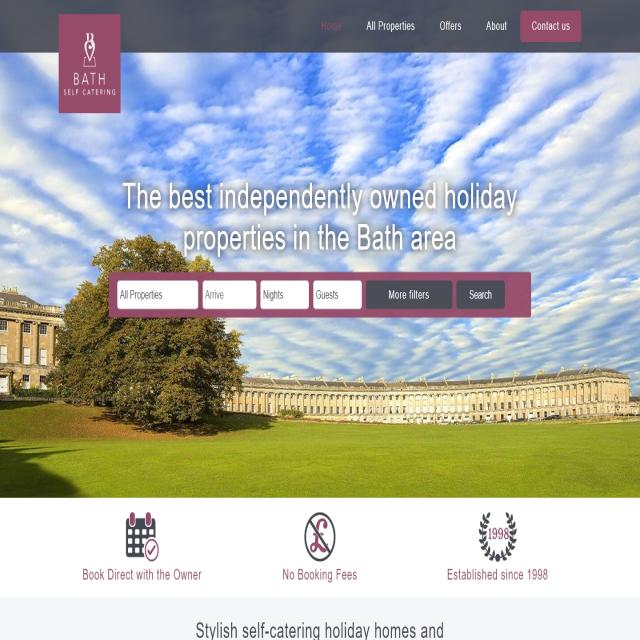button: (366, 281, 452, 309), (360, 8, 419, 46), (520, 10, 581, 44), (426, 7, 470, 45), (476, 6, 514, 46), (456, 280, 505, 308), (312, 8, 349, 44)
field: (118, 278, 198, 308), (202, 280, 255, 310), (259, 280, 310, 310), (313, 280, 362, 310)
heading: (118, 166, 526, 262)
image: (1, 1, 640, 497), (58, 13, 120, 114), (477, 507, 522, 566), (299, 510, 341, 565), (123, 506, 161, 564)
label: (119, 286, 164, 302), (314, 285, 340, 304), (203, 286, 226, 303), (262, 288, 284, 304)
text: (193, 619, 445, 640), (80, 564, 204, 584), (447, 566, 549, 582), (282, 567, 359, 584)
